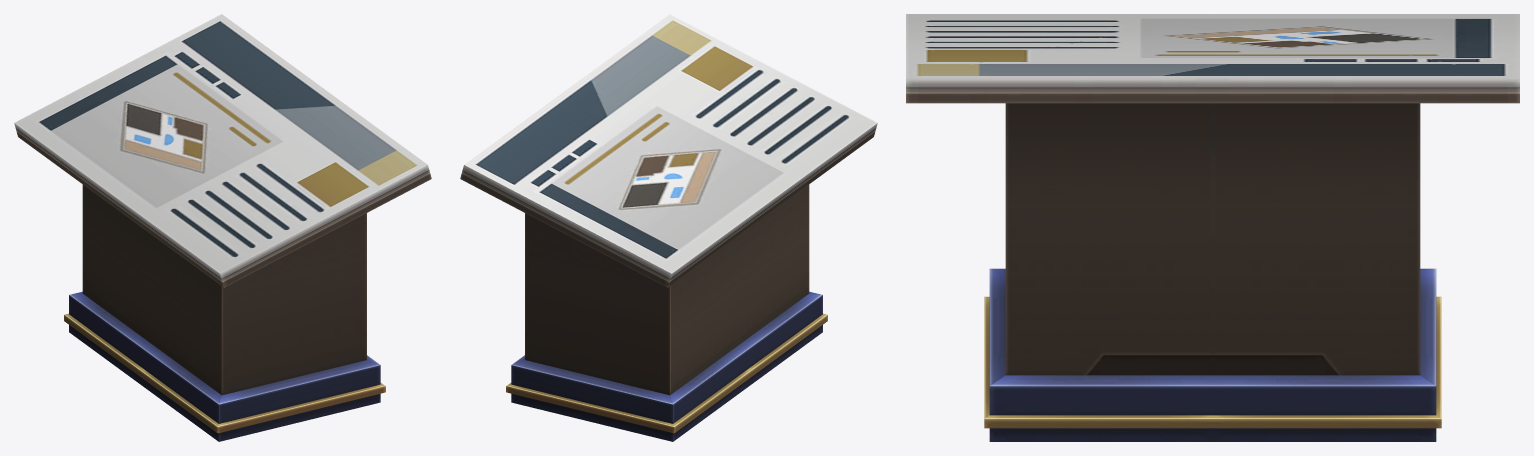
The model's file is my_highlander_01_informationboard_01.glb.
The picture shows the model from 3 angles, left to right: view 1: azimuth 30°, elevation 25°; view 2: azimuth 150°, elevation 25°; view 3: azimuth 270°, elevation 25°; orthographic projection. The views are drawn at different scales.
Visible parts, largest first — view 1: my_highlander_01_informationboard_01; view 2: my_highlander_01_informationboard_01; view 3: my_highlander_01_informationboard_01.
Part boxes in pixels (x1=…): my_highlander_01_informationboard_01: x1=14, y1=14, x2=431, y2=441; my_highlander_01_informationboard_01: x1=460, y1=14, x2=877, y2=441; my_highlander_01_informationboard_01: x1=906, y1=14, x2=1519, y2=441.
Size of the model in its own units: 0.00342 by 0.00392 by 0.00578.
1 material, 1 textured.
